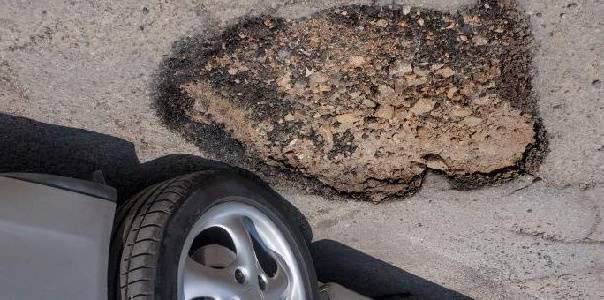pothole: (151, 1, 552, 206)
